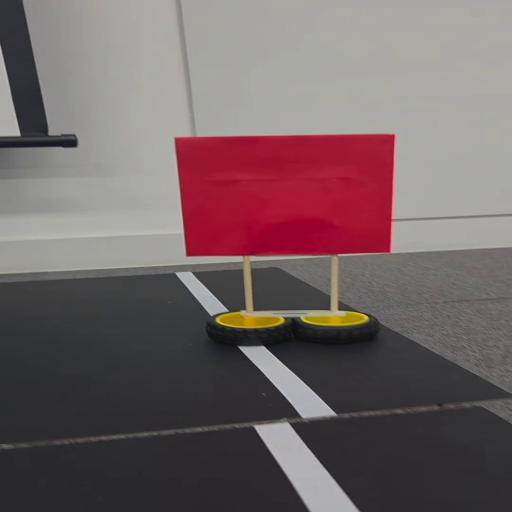Sign_A: (169, 130, 390, 348)
